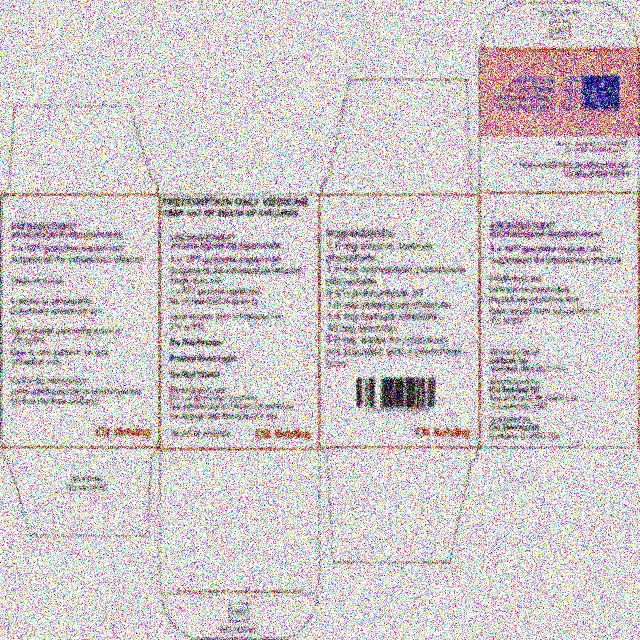Artwork: (0, 0, 640, 640)
Back_Panel: (479, 192, 640, 448)
Bottom_Part: (479, 48, 639, 193)
Extra_Areas: (321, 76, 479, 193), (320, 448, 478, 564), (4, 104, 160, 195), (2, 448, 158, 538), (480, 1, 639, 48), (161, 595, 319, 640)
Front_Panel: (160, 194, 319, 450)
Side_Panel: (319, 194, 480, 447), (2, 195, 160, 449)
Top_Panel: (161, 450, 321, 595)
